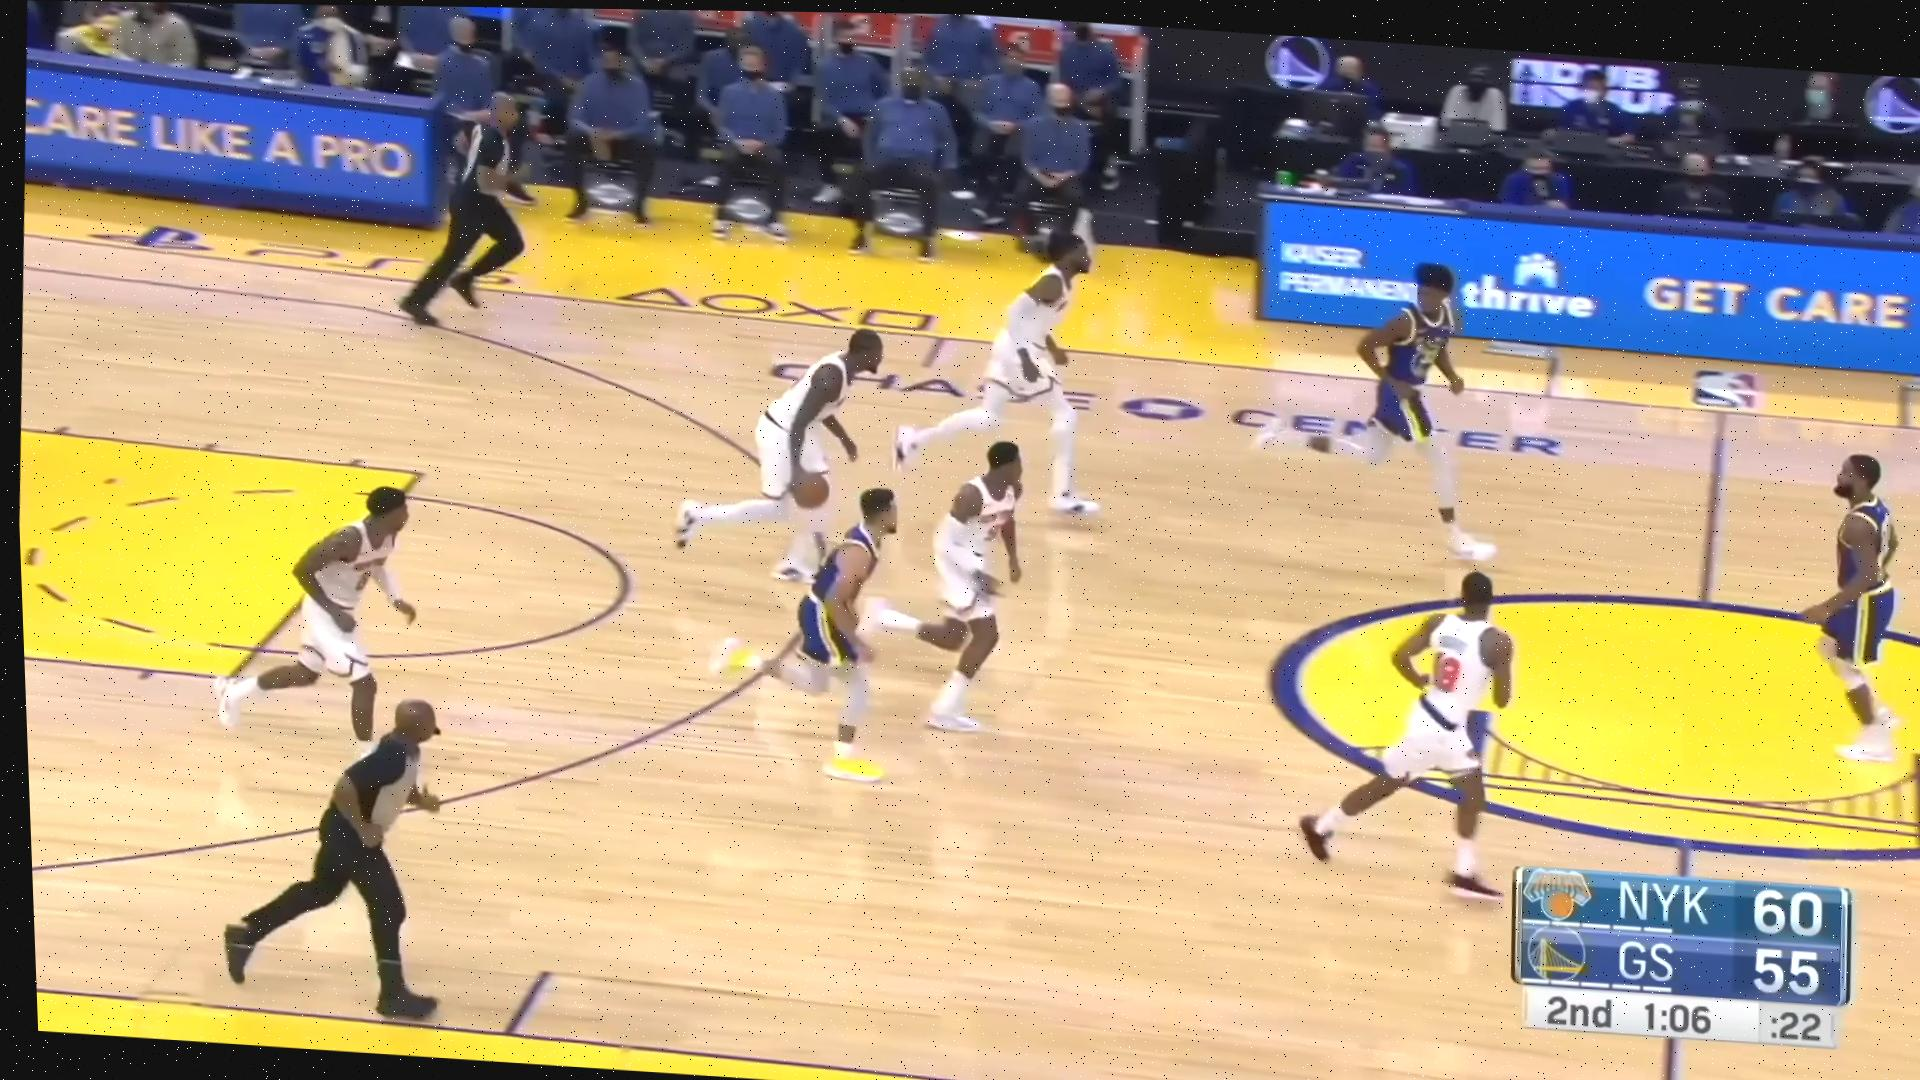no_foul: (742, 417, 1042, 781)
